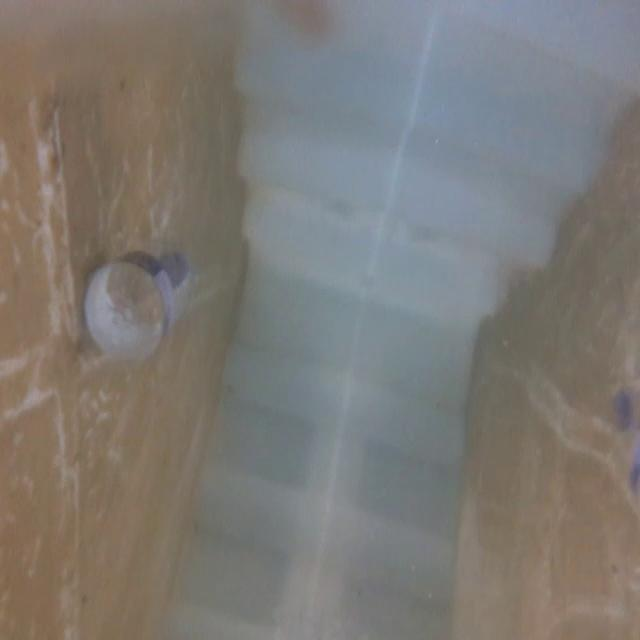plastic bottle: (63, 233, 219, 385)
